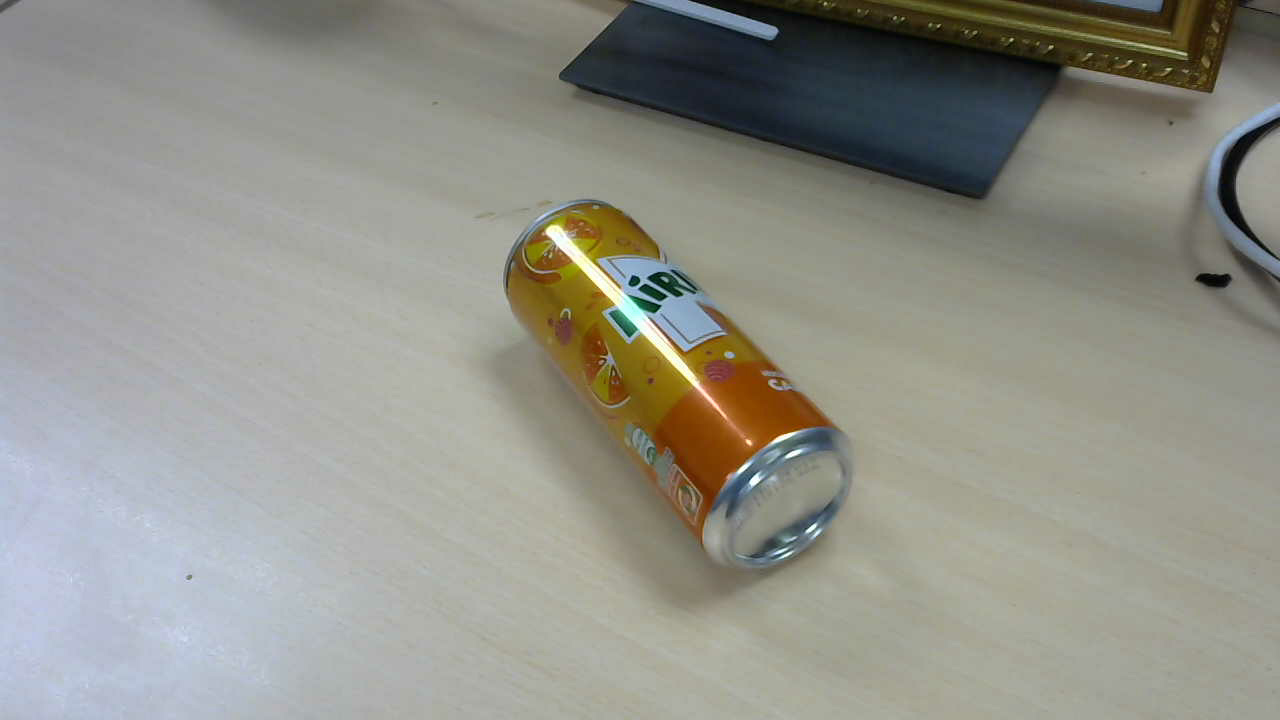Mirinda: (505, 204, 859, 574)
